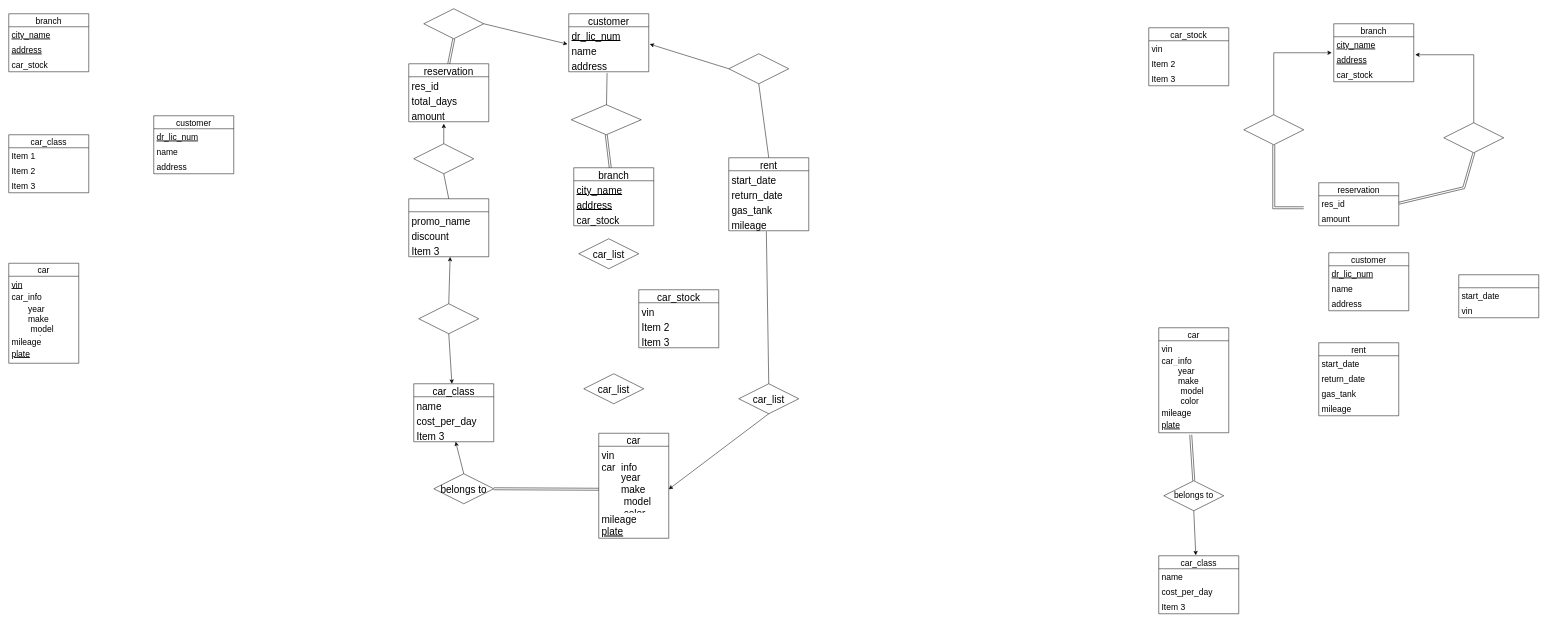
The diagram is 1548 pixels wide and 624 high, and some of its shapes have lost their labels. Here are the shapes that lost their labels. From the top down, the box of each, then its label:
(423, 8, 484, 39): Relationship
(728, 53, 789, 84): pays
(571, 104, 641, 135): cus_branch
(1243, 114, 1304, 145): pick_up
(1443, 122, 1504, 153): drop_off
(413, 143, 474, 174): promo_res
(408, 198, 489, 257): promotion
(1458, 274, 1539, 318): billing
(418, 303, 479, 334): promo_class
